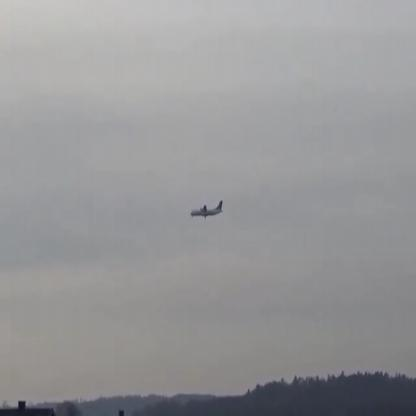CIV_Plane: (190, 200, 224, 220)
